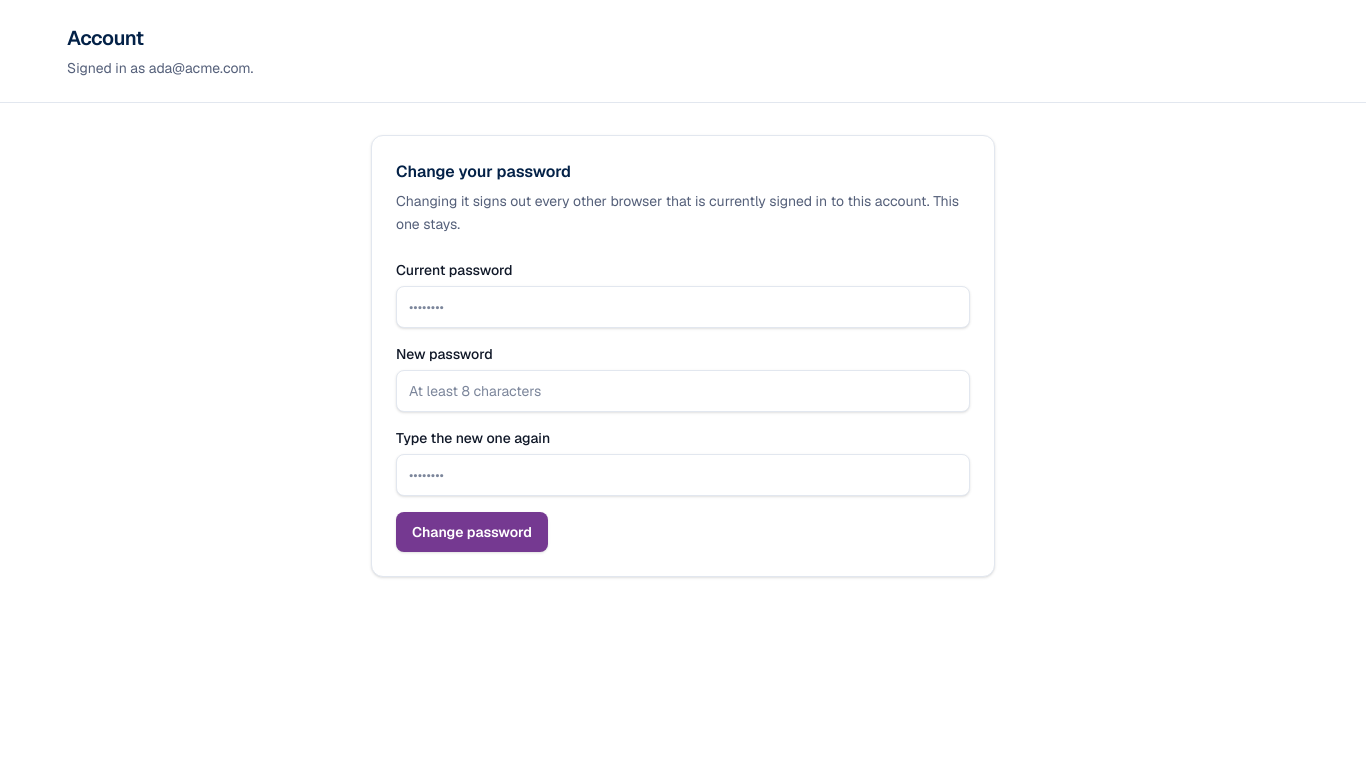
Test: the account screen › refuses a mismatched confirmation without asking the server
In the password field labelled "Current password": (683, 306) [396, 286, 970, 328], type "the-old-one"
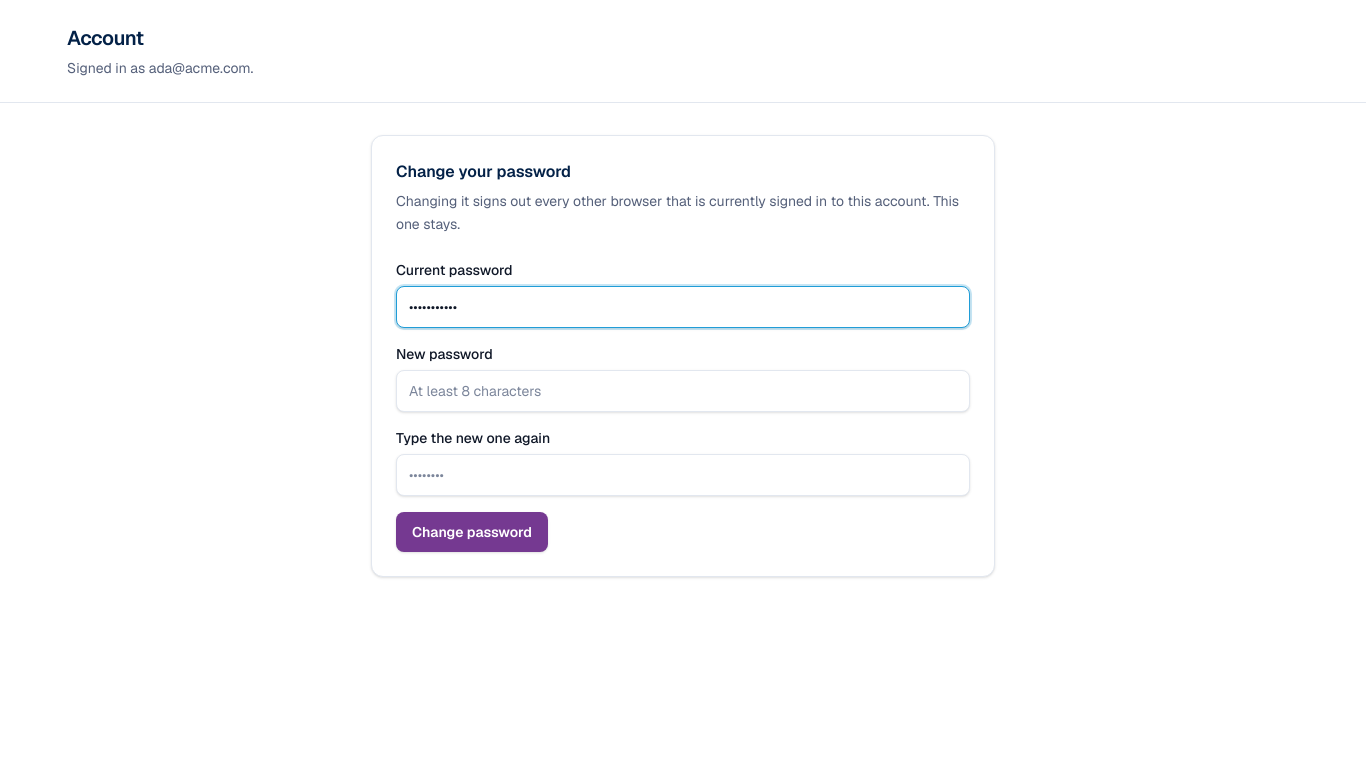
In the password field labelled "New password": (683, 390) [396, 370, 970, 412], type "a-much-better-one"
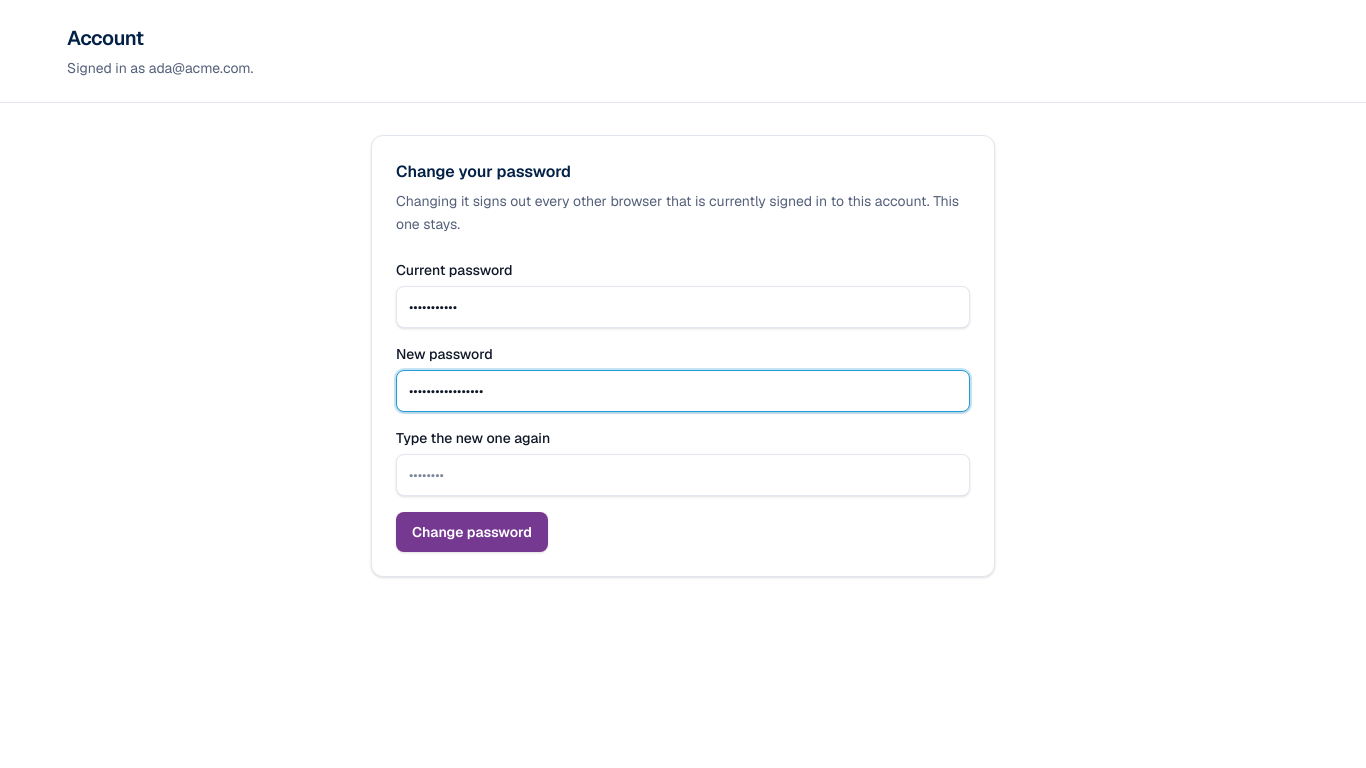
In the password field labelled "Type the new one again": (683, 474) [396, 454, 970, 496], type "something-else"
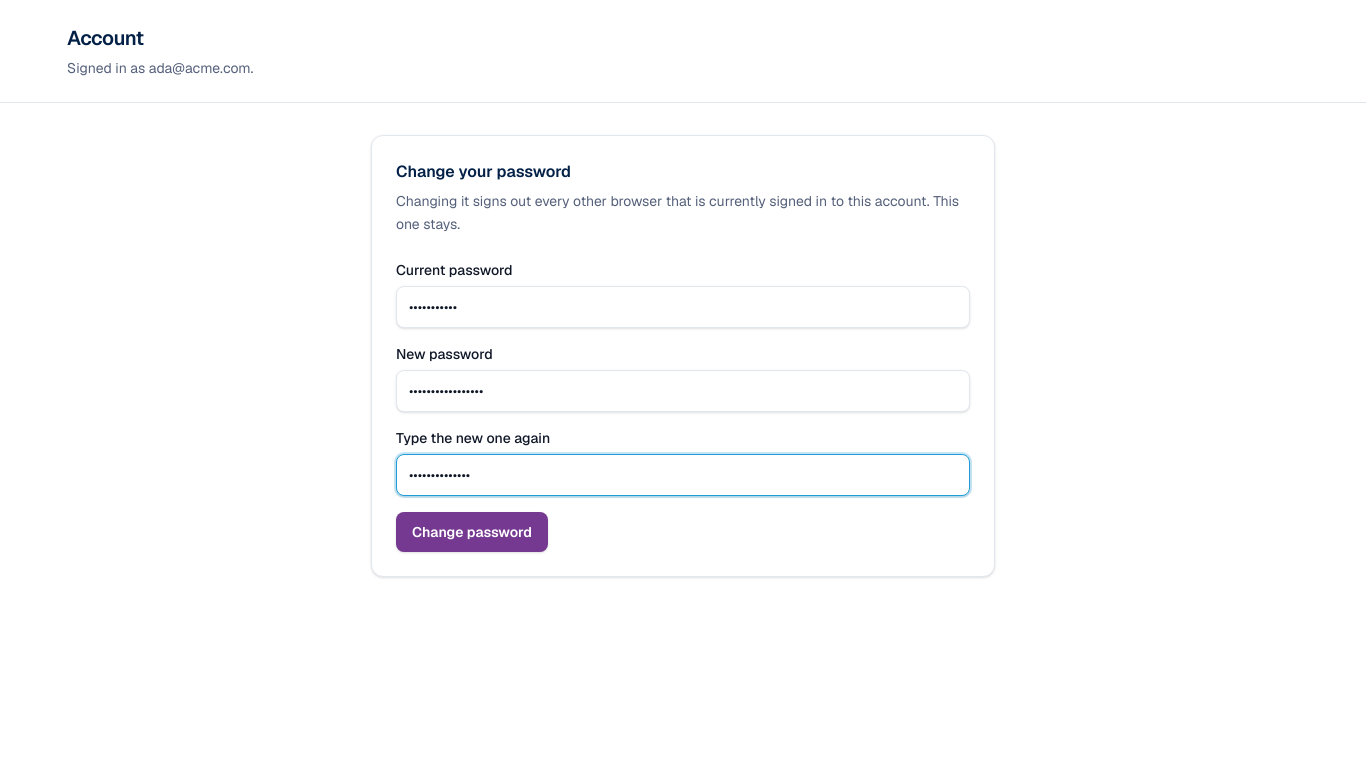
Click the button "Change password": (472, 532) [396, 512, 548, 552]
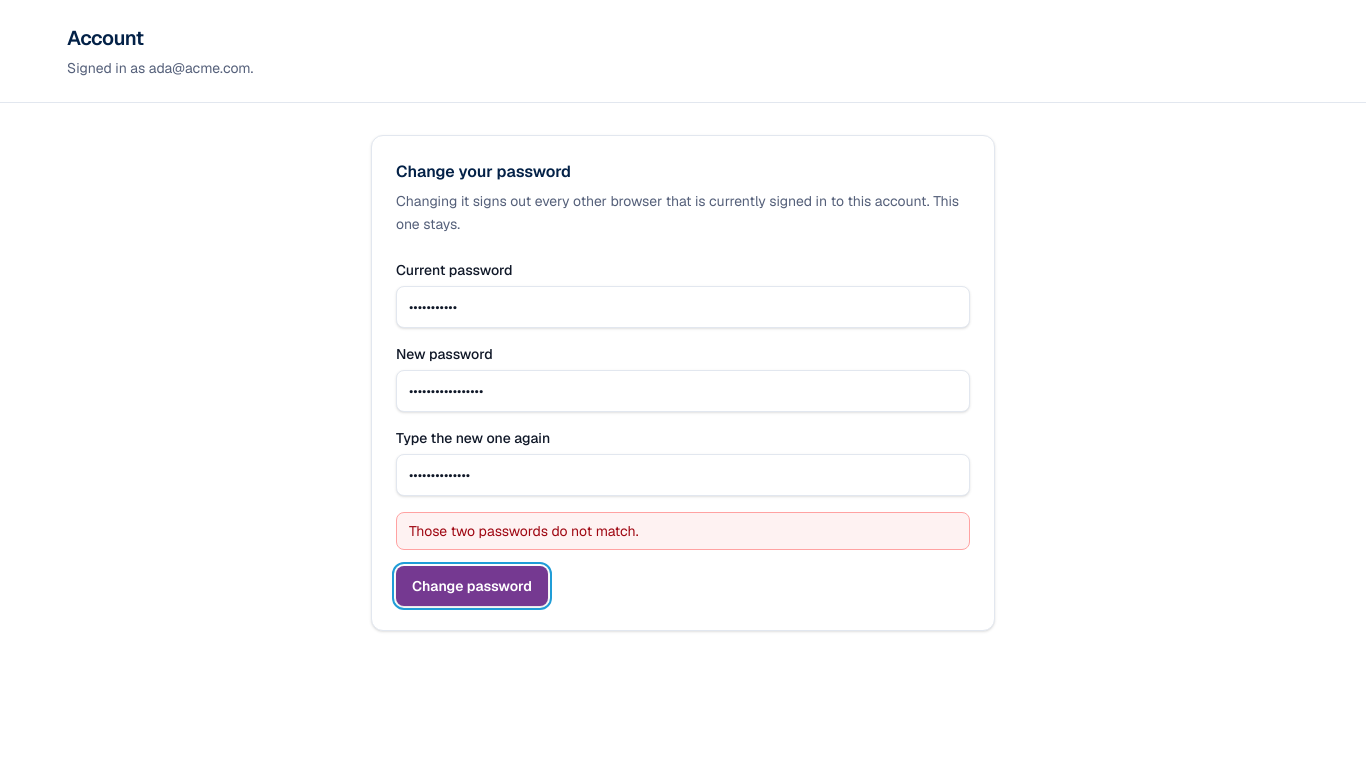
Check: the message shows "do not match", box [409, 522, 638, 540]
